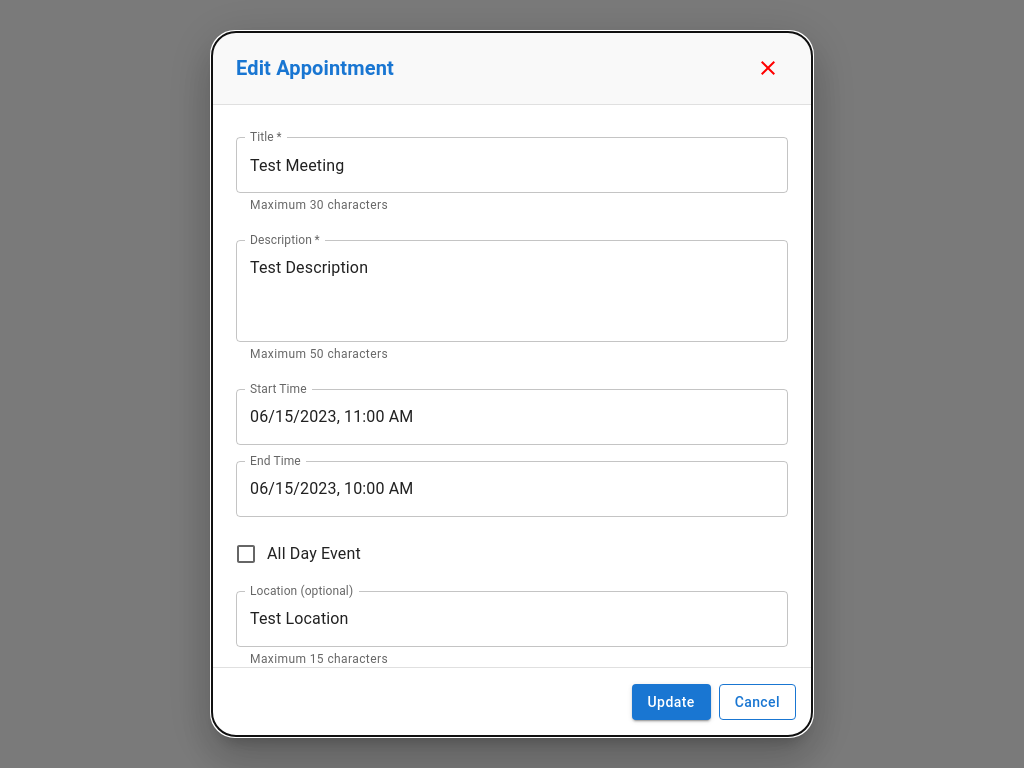
Test case: AppointmentForm Component › validates that end time must be after start time
Submit the form
Step 1. Click the button "Update" → (671, 702), box [632, 684, 711, 720]
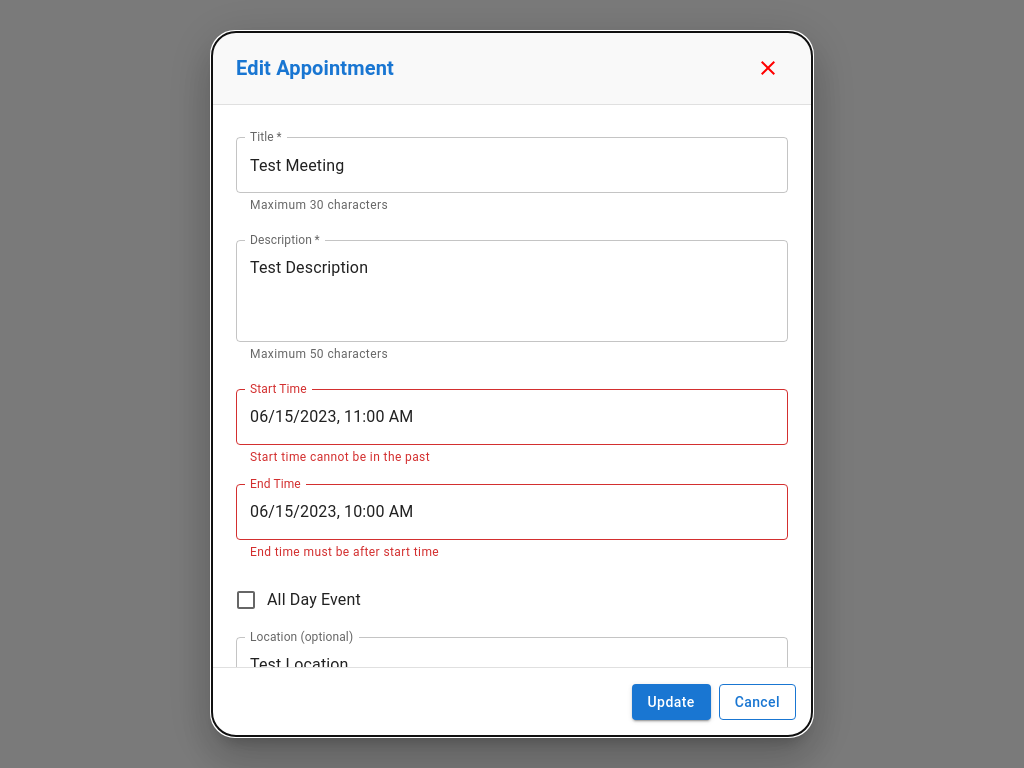
Check: the text "End time must be after start time" is shown, box [250, 545, 439, 559]
